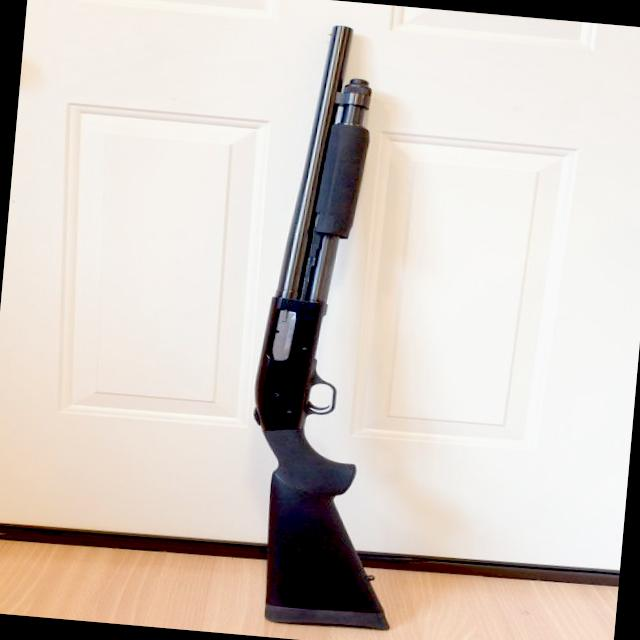shotgun: (236, 11, 449, 631)
